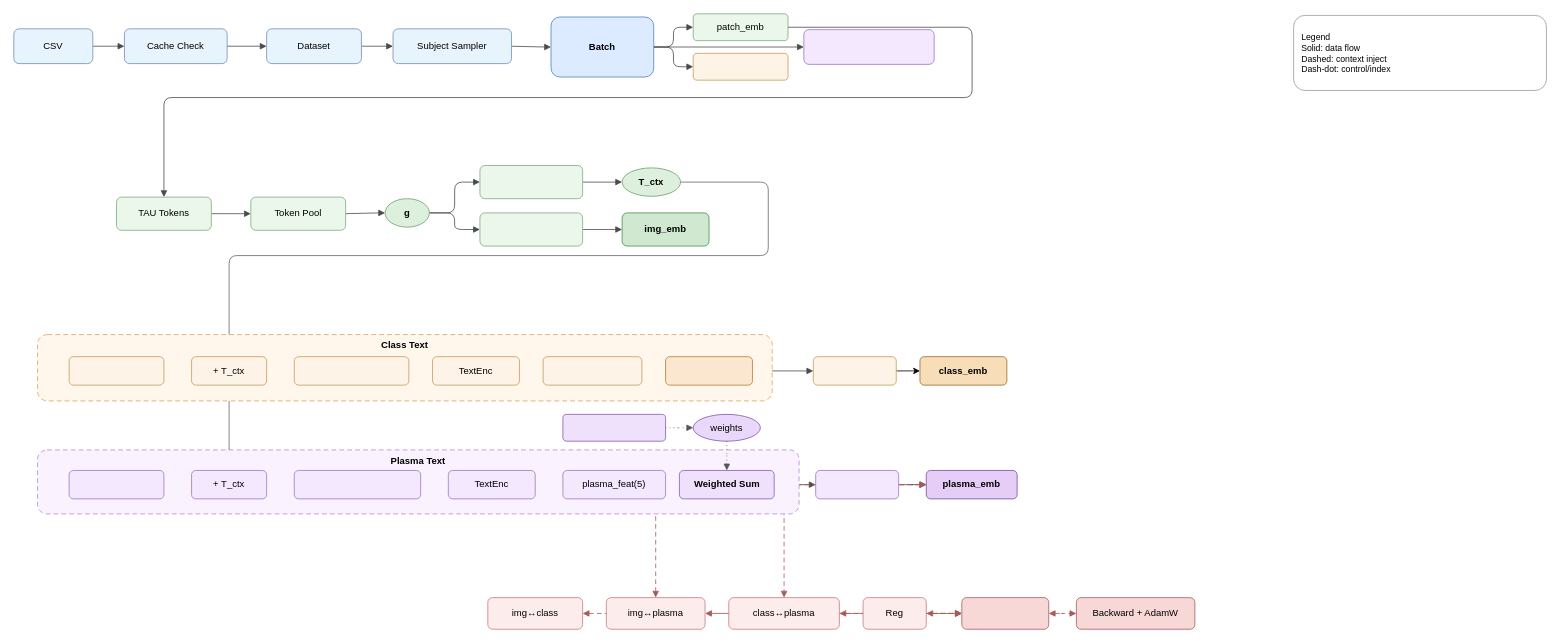
Image size: 1560x643. Some labels were removed from this diagram. The centre of each missing label's shape, as x and y in pixels:
base_ctx_cls: the point at 116,370
base_ctx_pls: the point at 116,484
Class Prompt (3): the point at 351,370
class_feat(3): the point at 592,370
ContextNet: the point at 531,182
GT Select: the point at 708,370
label_idx: the point at 740,66
Masked Softmax: the point at 614,427
Plasma Prompt (5): the point at 357,484
plasma_vals + mask: the point at 868,46
Proj Cls: the point at 854,370
Proj Img: the point at 531,229
Proj Pls: the point at 857,484
Total Loss: the point at 1005,613
